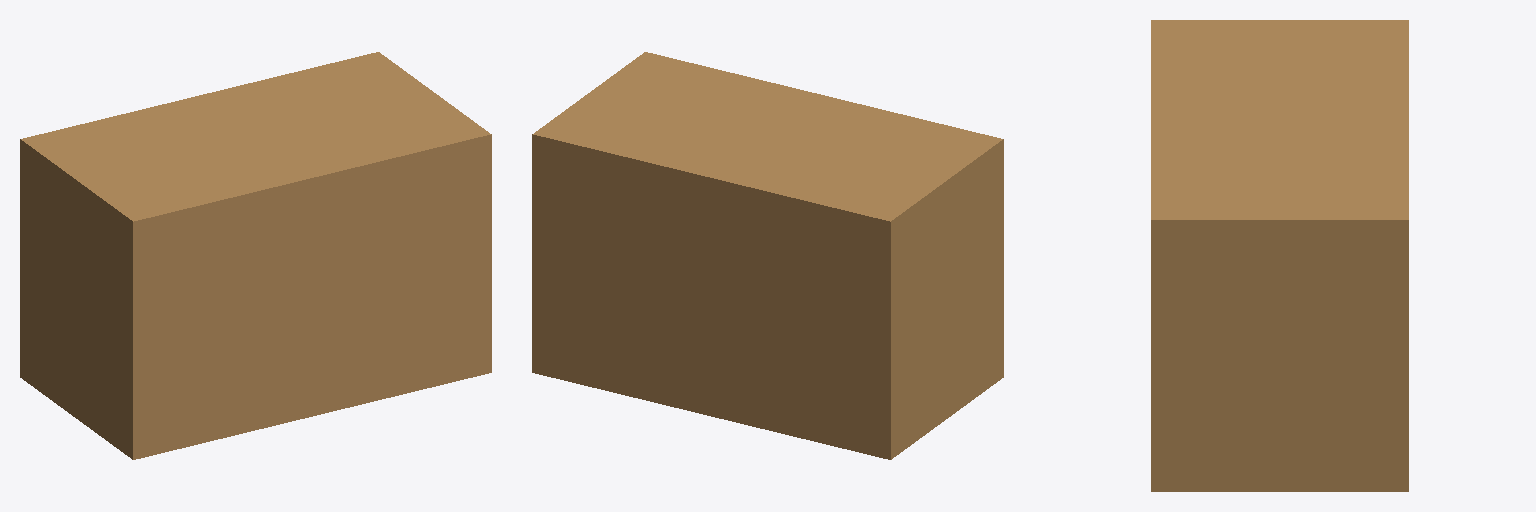
robot.urdf — pallet_rack:
<?xml version="1.0"?>
<robot name="pallet_rack">

  <material name="rack_blue"><color rgba="0.0 0.2 0.6 1.0"/></material>
  <material name="rack_orange"><color rgba="1.0 0.4 0.0 1.0"/></material>

  <link name="rack_base">
    
    <inertial>
      <mass value="0.5"/>
      <origin xyz="0 0 0.1" rpy="0 0 0"/>
      <inertia ixx="0.1" ixy="0.0" ixz="0.0" iyy="0.1" iyz="0.0" izz="0.1"/>
    </inertial>

    <visual><origin xyz="0 0 0" rpy="0 0 0"/><geometry><mesh filename="box.dae"/></geometry></visual>
    <collision><origin xyz="0 0 0" rpy="0 0 0"/><geometry><mesh filename="box.dae"/></geometry></collision>

  </link>
</robot>

--- Render facts (derived) ---
3 views of the same robot in one strip: view 1: azimuth 30°, elevation 25°; view 2: azimuth 150°, elevation 25°; view 3: azimuth 270°, elevation 25° (orthographic).
Robot: pallet_rack — 1 links, 0 joints (none); root link rack_base; default pose: every joint at zero.
Visible links, largest first — view 1: rack_base; view 2: rack_base; view 3: rack_base.
Link boxes in pixels (x1,y1,x2,y2): rack_base: [20, 52, 491, 459]; rack_base: [532, 52, 1003, 459]; rack_base: [1151, 20, 1408, 491].
Size in the robot's own frame: 0.55 by 0.3 by 0.35 metres.
Meshes: 1 distinct files referenced, 1 mesh visuals loaded (1 Collada DAE).
